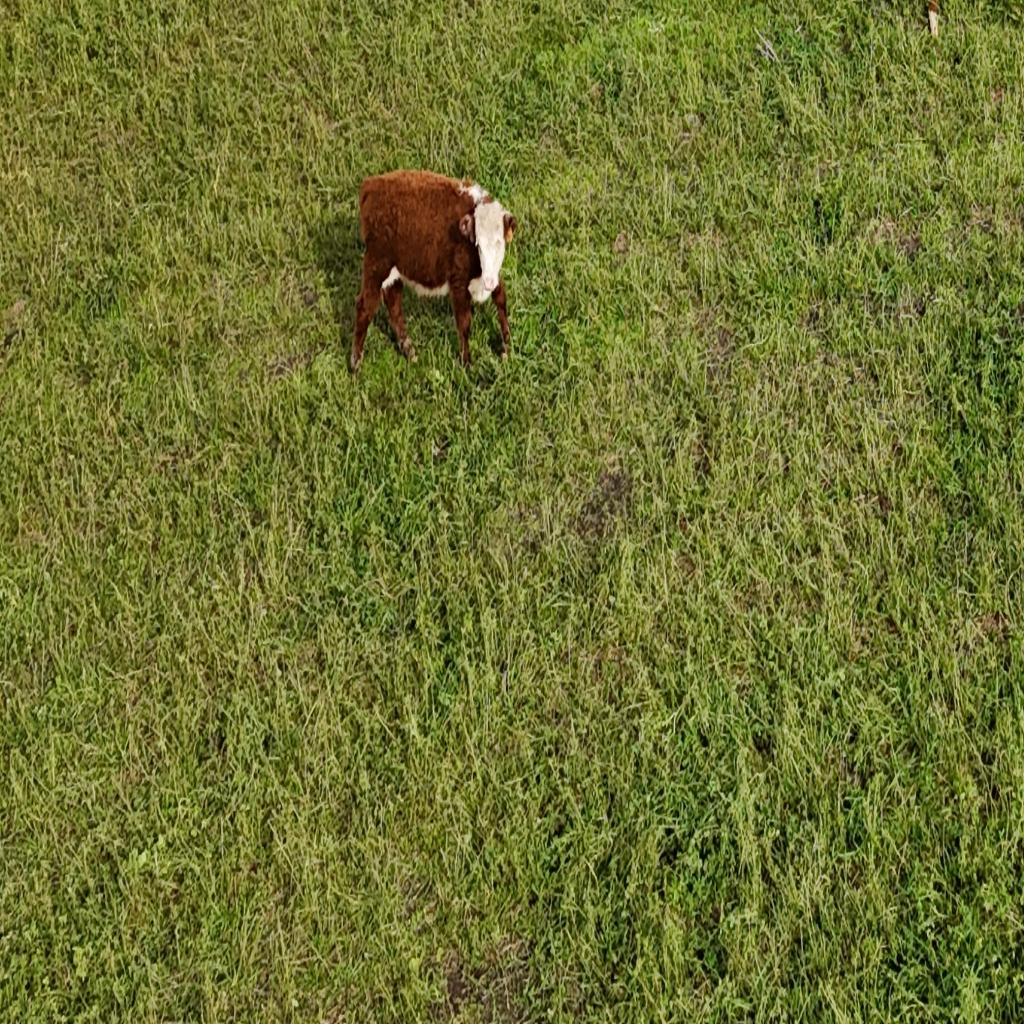cow: (346, 160, 524, 380)
